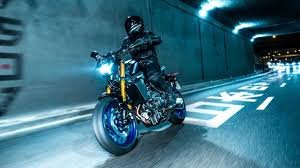motor: (91, 51, 191, 151)
